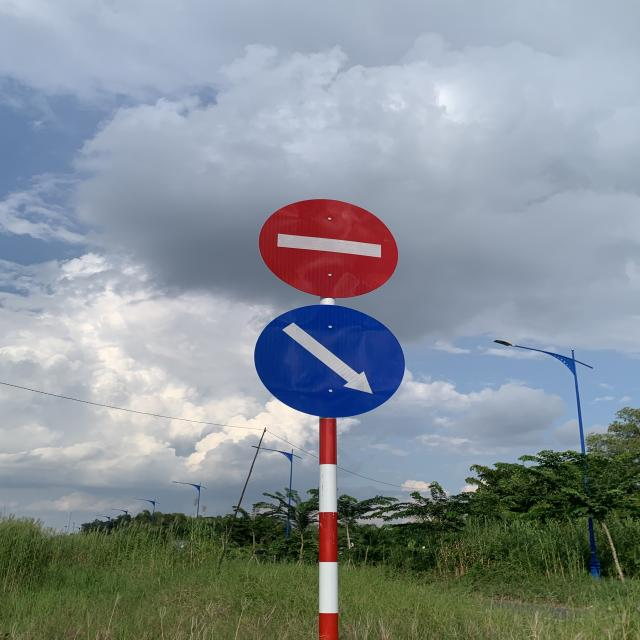Cam_Di_Nguoc_Chieu: (259, 197, 402, 299)
Chi_Huong_Di_Phai: (249, 305, 407, 417)
